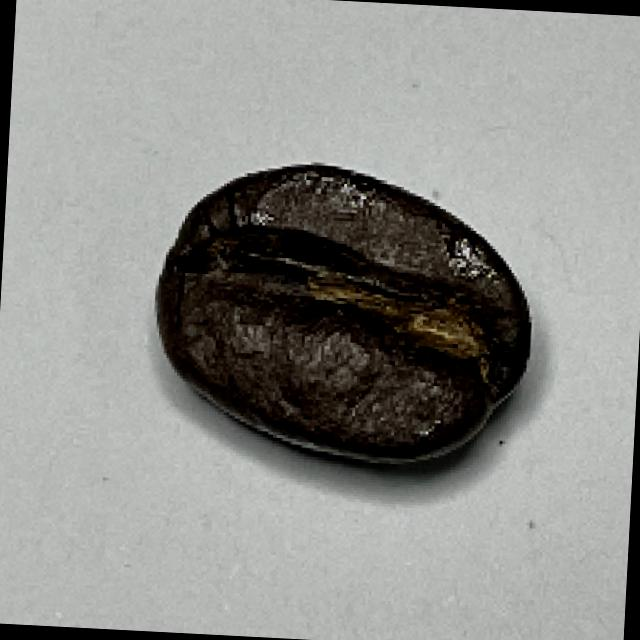bean: (144, 151, 545, 472)
